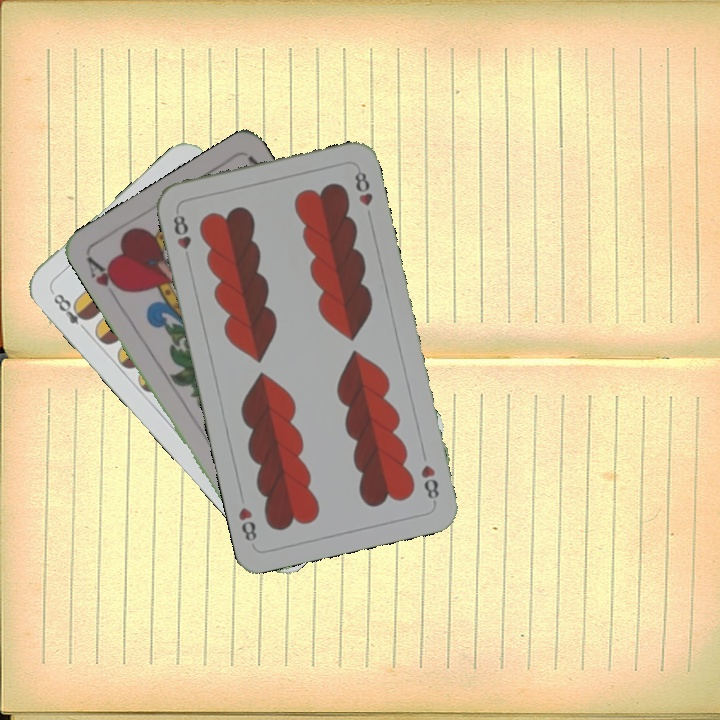E8: (49, 289, 93, 335)
H8: (169, 211, 194, 265), (416, 461, 442, 506)
HA: (82, 252, 128, 296)
